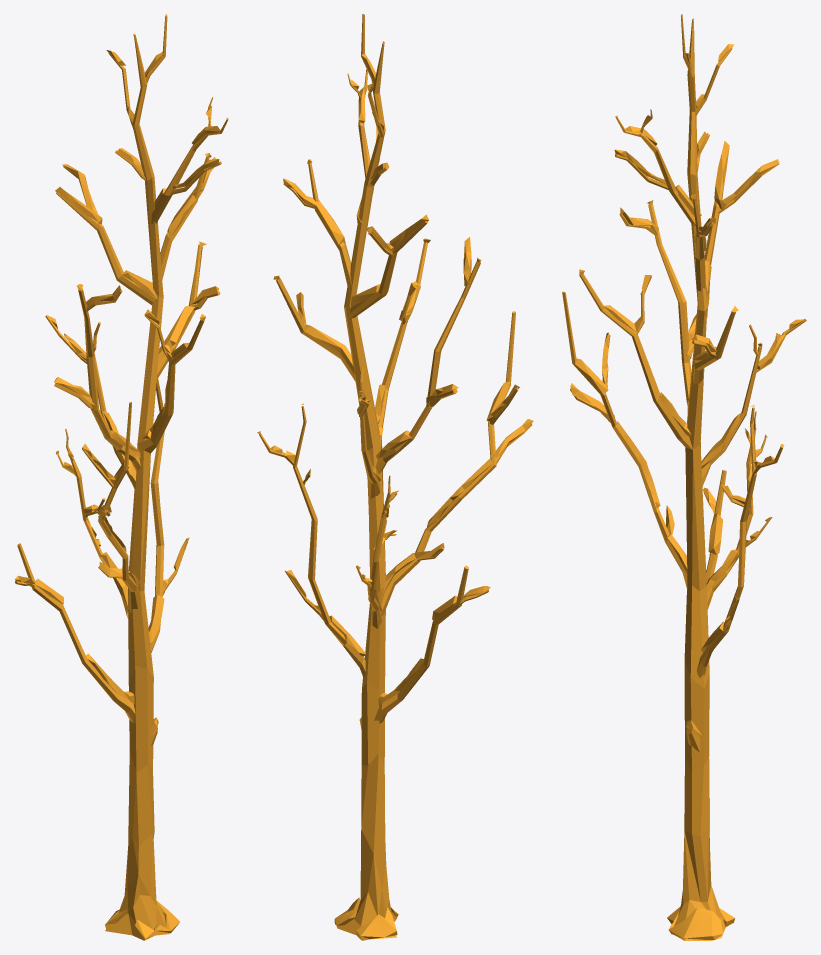
Rendered from SM_Tree_Poplar_Mature_A_Bare_Snow.fbx.
3 views of the same model, side by side, from view 1: azimuth 30°, elevation 25°; view 2: azimuth 150°, elevation 25°; view 3: azimuth 270°, elevation 25° (orthographic). The views are drawn at different scales.
Visible parts, largest first — view 1: tree-poplar-mature-a-bare-snow; view 2: tree-poplar-mature-a-bare-snow; view 3: tree-poplar-mature-a-bare-snow.
Part boxes in pixels (bbox=[...]): tree-poplar-mature-a-bare-snow: bbox=[14, 14, 228, 940]; tree-poplar-mature-a-bare-snow: bbox=[257, 14, 533, 940]; tree-poplar-mature-a-bare-snow: bbox=[562, 14, 806, 940].
Bounding box in the file's own units: 3.43 × 14.49 × 3.49.
